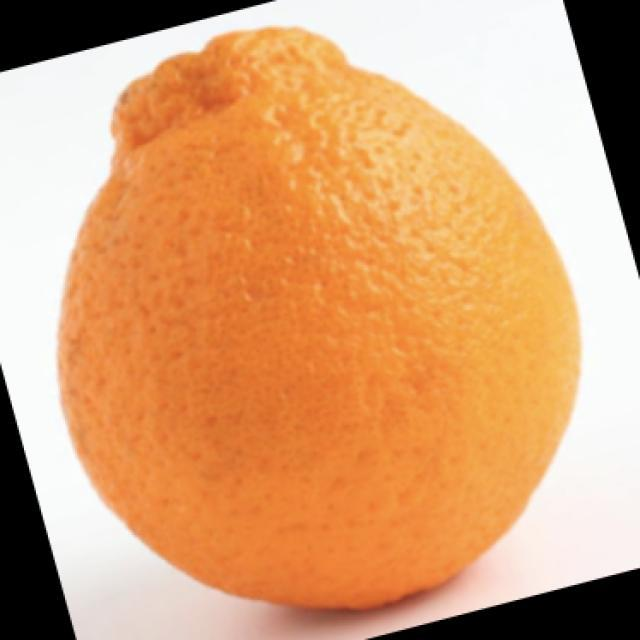Orange: (55, 24, 582, 613)
